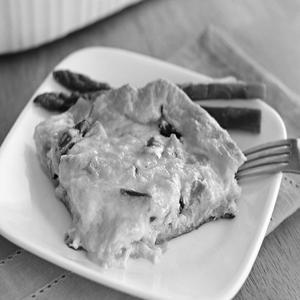omelet: (32, 64, 258, 265)
